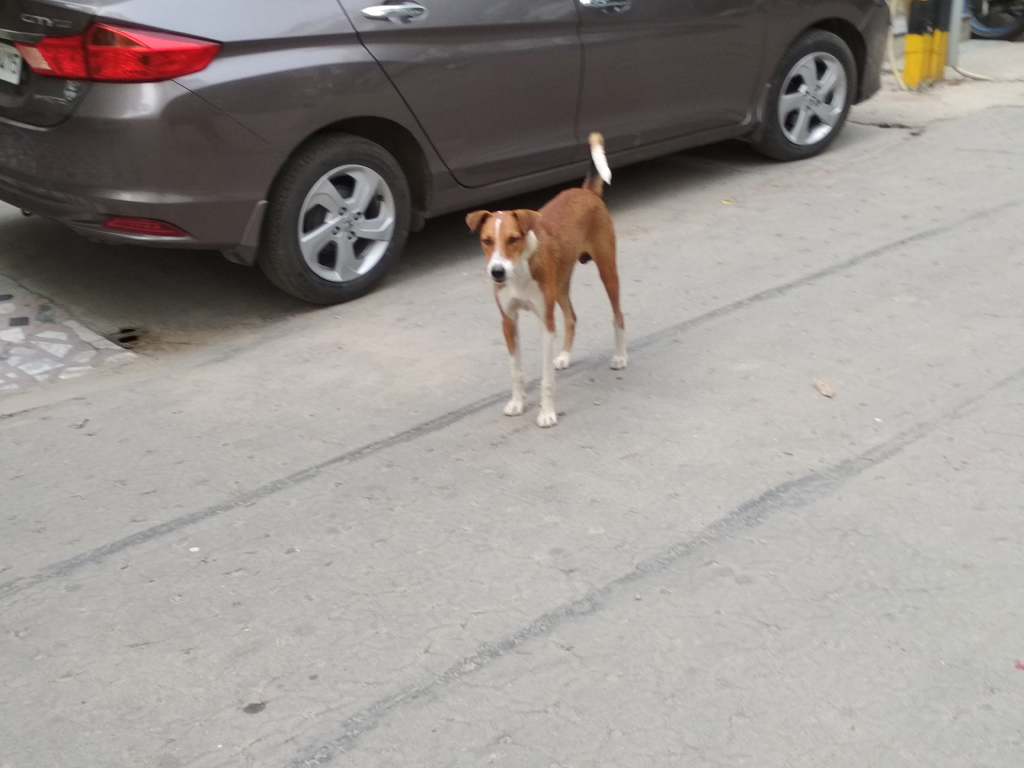dog: (466, 131, 630, 427)
